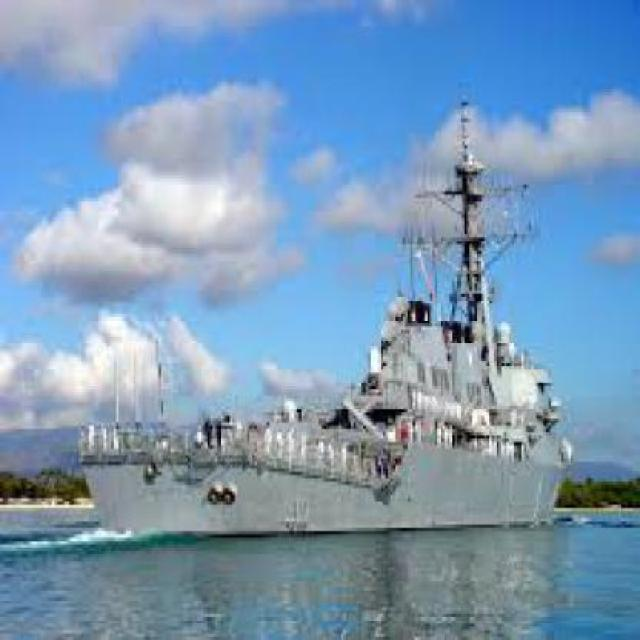warship2: (90, 83, 597, 576)
